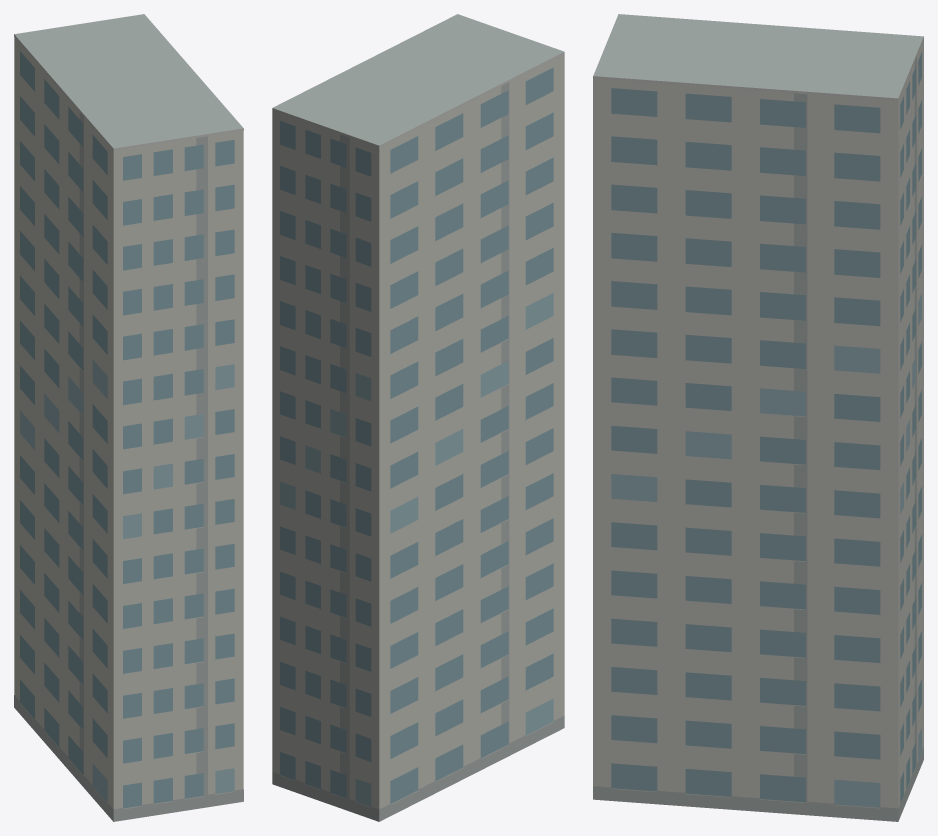
The model's file is residential-1643e792-79a0-42e2-b720-08a3d390e9d4.glb.
3 renders of one model, left to right at view 1: azimuth 30°, elevation 25°; view 2: azimuth 150°, elevation 25°; view 3: azimuth 270°, elevation 25°, orthographic. The views are drawn at different scales.
Parts seen in each view (by area): view 1: residential-1643e792-79a0-42e2-b720-08a3d390e9d4.tmp; view 2: residential-1643e792-79a0-42e2-b720-08a3d390e9d4.tmp; view 3: residential-1643e792-79a0-42e2-b720-08a3d390e9d4.tmp.
Part boxes in pixels (x1,y1,x2,y2): residential-1643e792-79a0-42e2-b720-08a3d390e9d4.tmp: (14,14,243,821); residential-1643e792-79a0-42e2-b720-08a3d390e9d4.tmp: (272,14,564,821); residential-1643e792-79a0-42e2-b720-08a3d390e9d4.tmp: (593,14,923,821).
Size of the model in its own units: 17.53 by 70 by 29.01.
